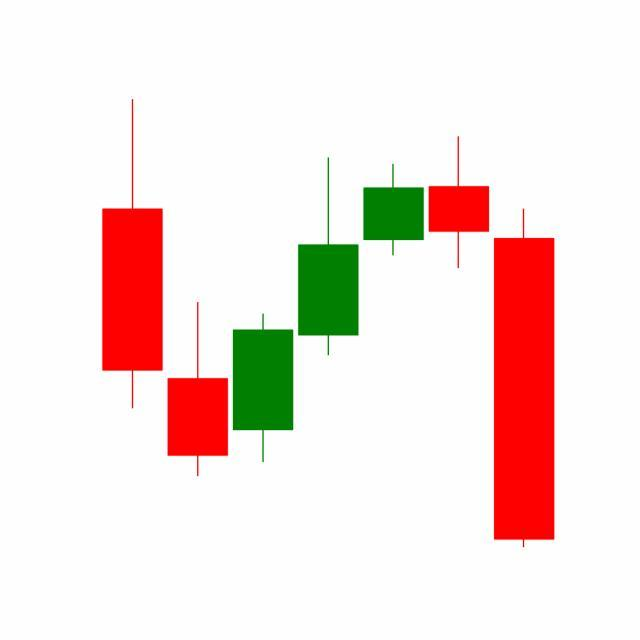Hikkake Pattern: (229, 132, 555, 548)
